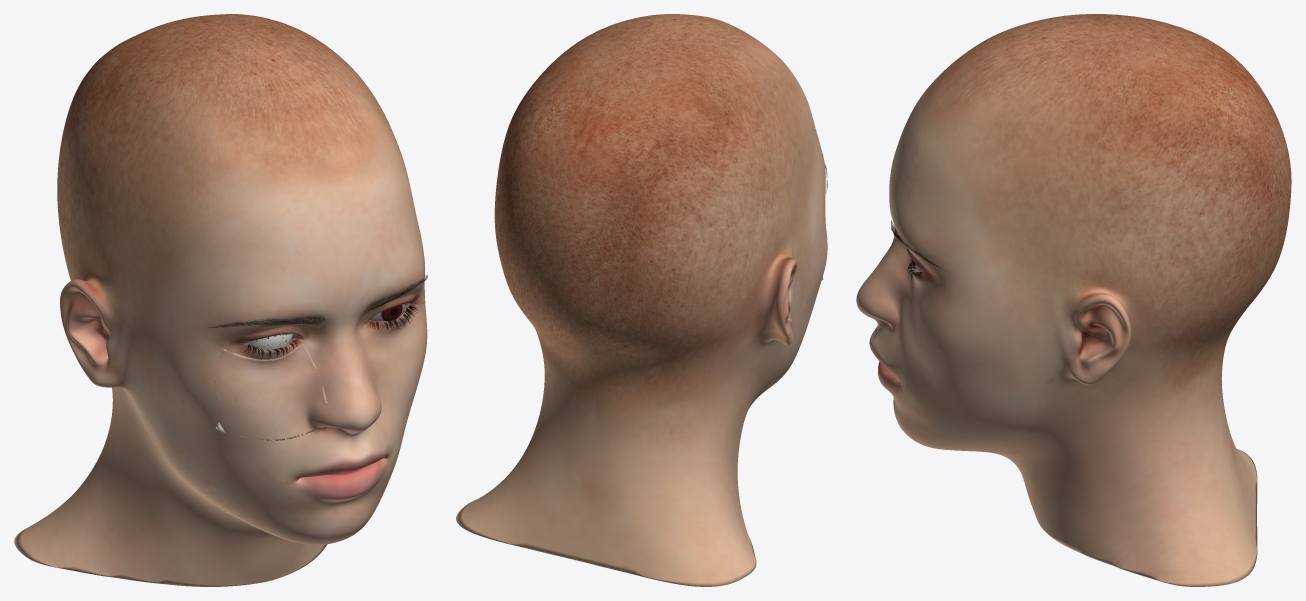
Rendered from anatomy.glb.
The picture shows the model from 3 angles, left to right: view 1: azimuth 30°, elevation 25°; view 2: azimuth 150°, elevation 25°; view 3: azimuth 270°, elevation 25°; orthographic projection. The views are drawn at different scales.
Visible parts, largest first — view 1: head.context, skin.window, tissue.dermis, surface.human.eyebrow001.R; view 2: head.context; view 3: head.context.
Boxes of the visible parts, x1,y1,x2,y2 form: head.context: [14, 14, 427, 586]; skin.window: [178, 323, 340, 450]; tissue.dermis: [215, 343, 327, 441]; surface.human.eyebrow001.R: [208, 315, 324, 327]; head.context: [456, 14, 825, 586]; head.context: [856, 14, 1291, 586].
Size of the model in its own units: 0.1645 by 0.2538 by 0.2064.
13 materials, 4 textured.
